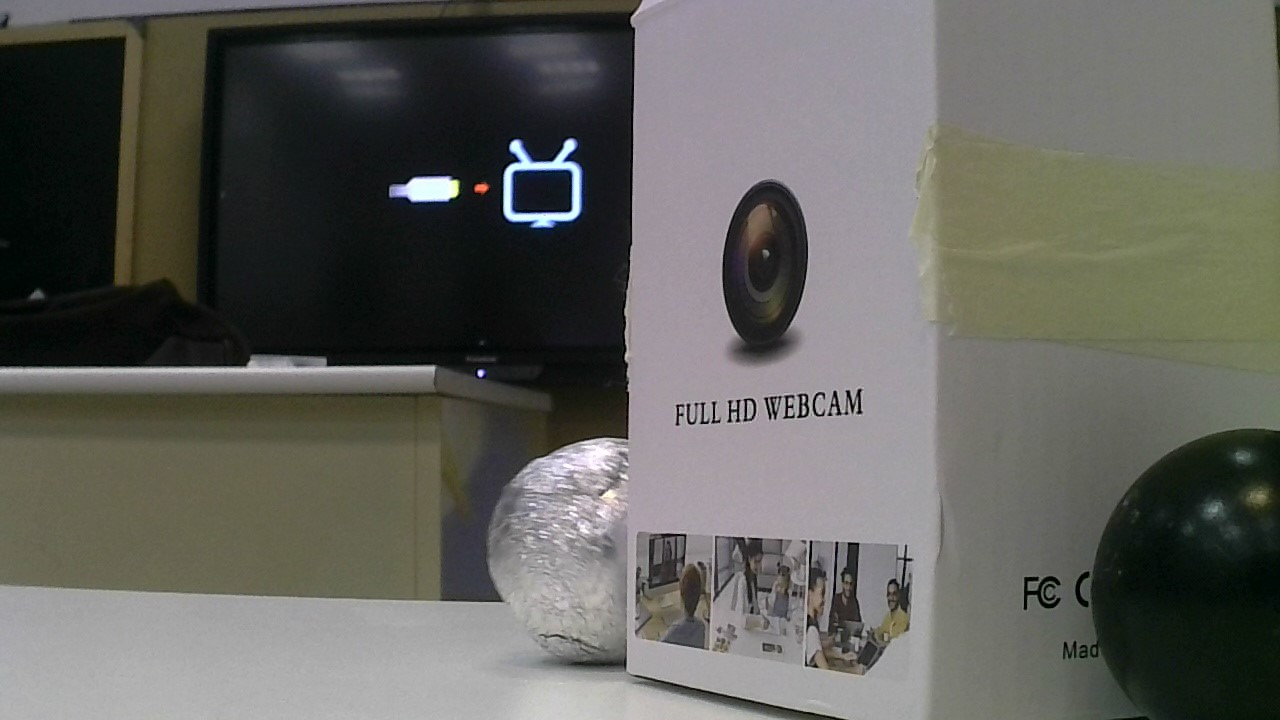black_ball: (1086, 422, 1280, 720)
silver_ball: (479, 431, 629, 670)
